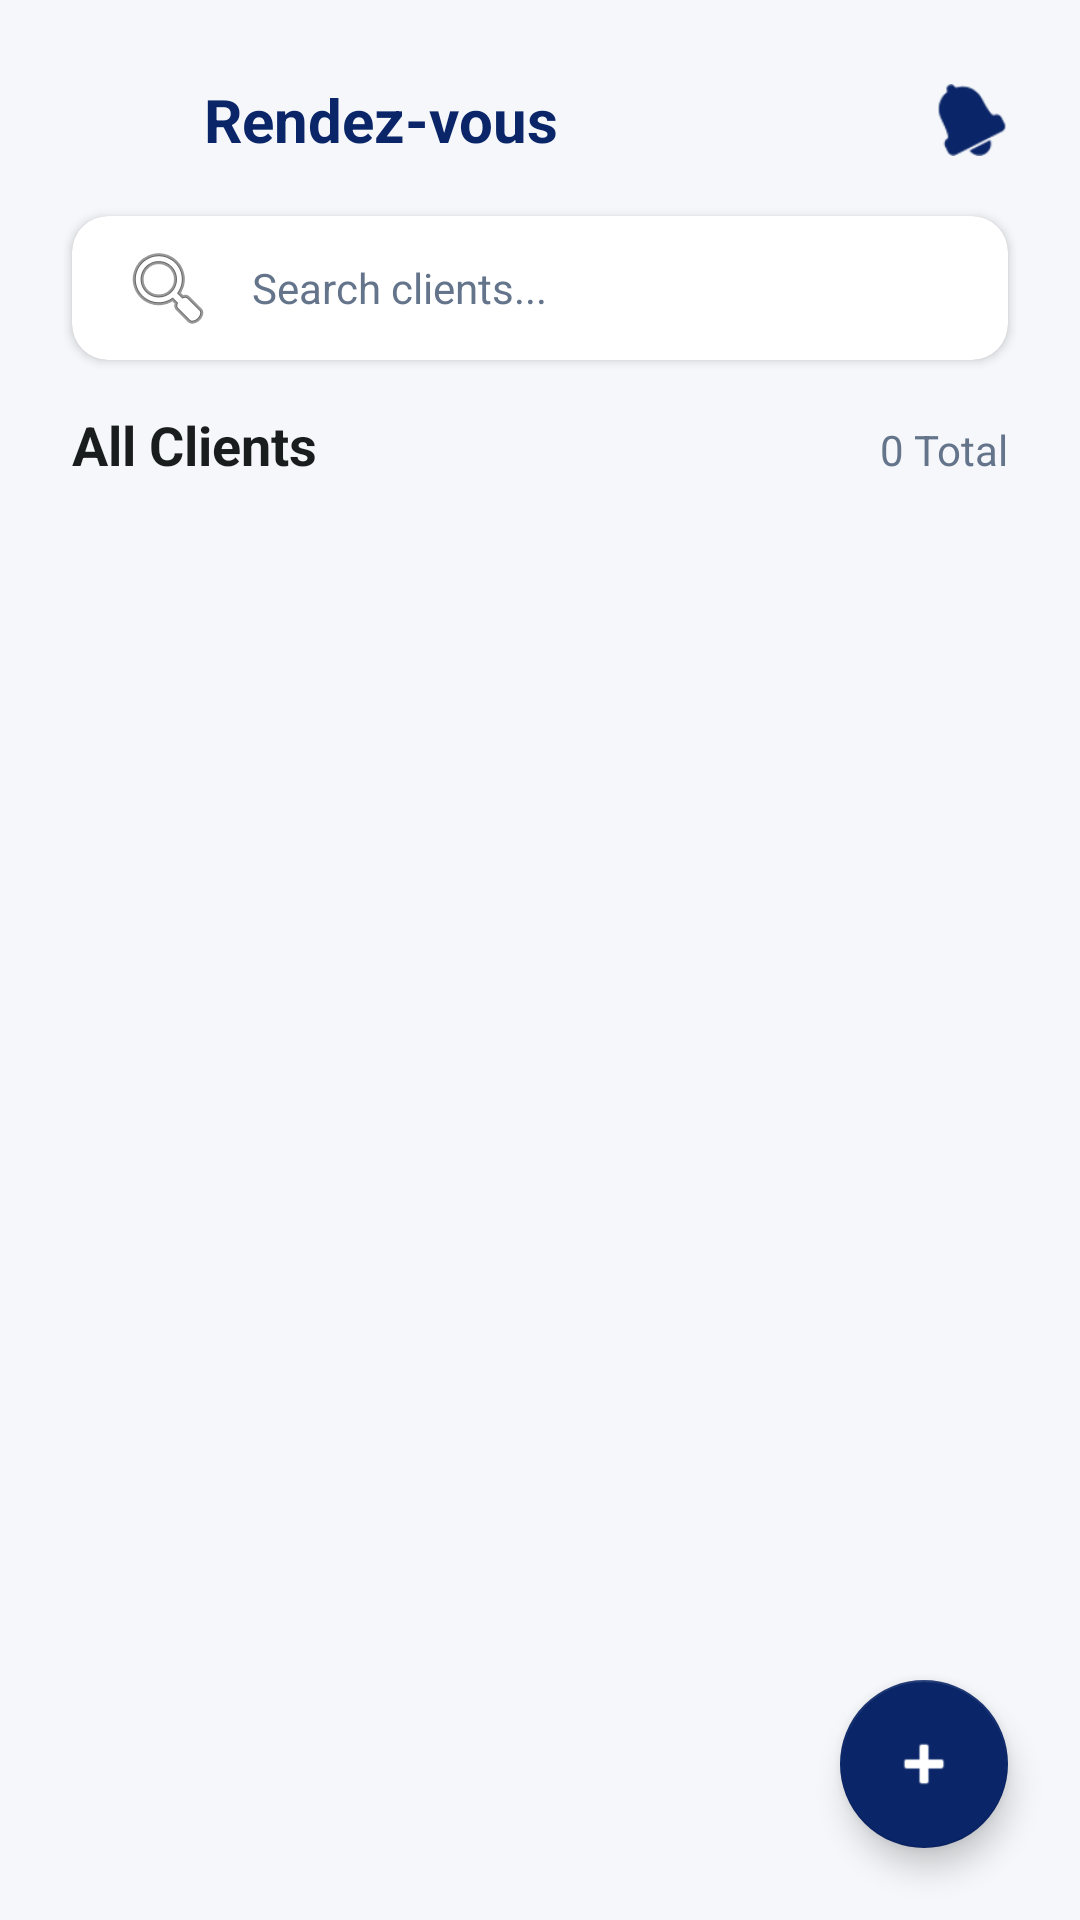

Where icons sit on this 1080×1920 app screen, as {"left": x1, "top": y1, "right": x2, "bottom": y2}:
add: {"left": 840, "top": 1680, "right": 1008, "bottom": 1848}
popup reminder: {"left": 938, "top": 84, "right": 1006, "bottom": 156}
